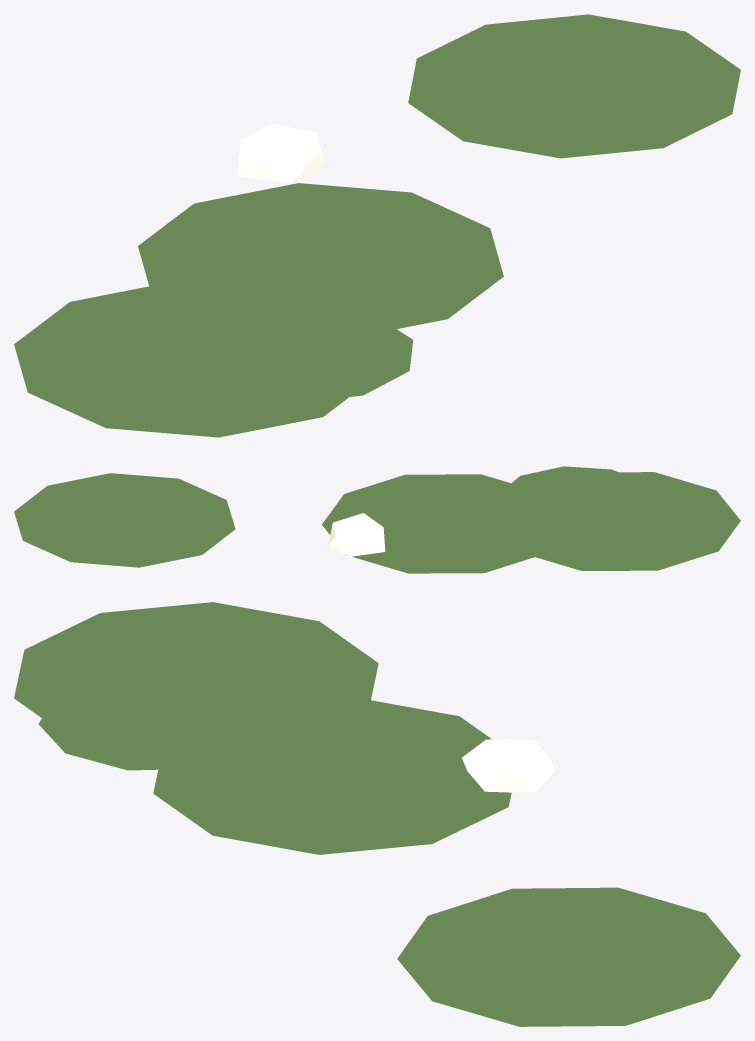
Rendered from lily_pads.glb.
3 views of the same model, one above another, from view 1: azimuth 30°, elevation 25°; view 2: azimuth 150°, elevation 25°; view 3: azimuth 270°, elevation 25° (orthographic). The views are drawn at different scales.
Parts seen in each view (by area): view 1: lily_pads_2; view 2: lily_pads_2; view 3: lily_pads_2.
Part boxes in pixels (x1,y1,x2,y2): lily_pads_2: [14, 14, 740, 437]; lily_pads_2: [14, 466, 740, 573]; lily_pads_2: [14, 602, 740, 1026].
Bounding box in the file's own units: 1.61 × 0.1058 × 1.16.
